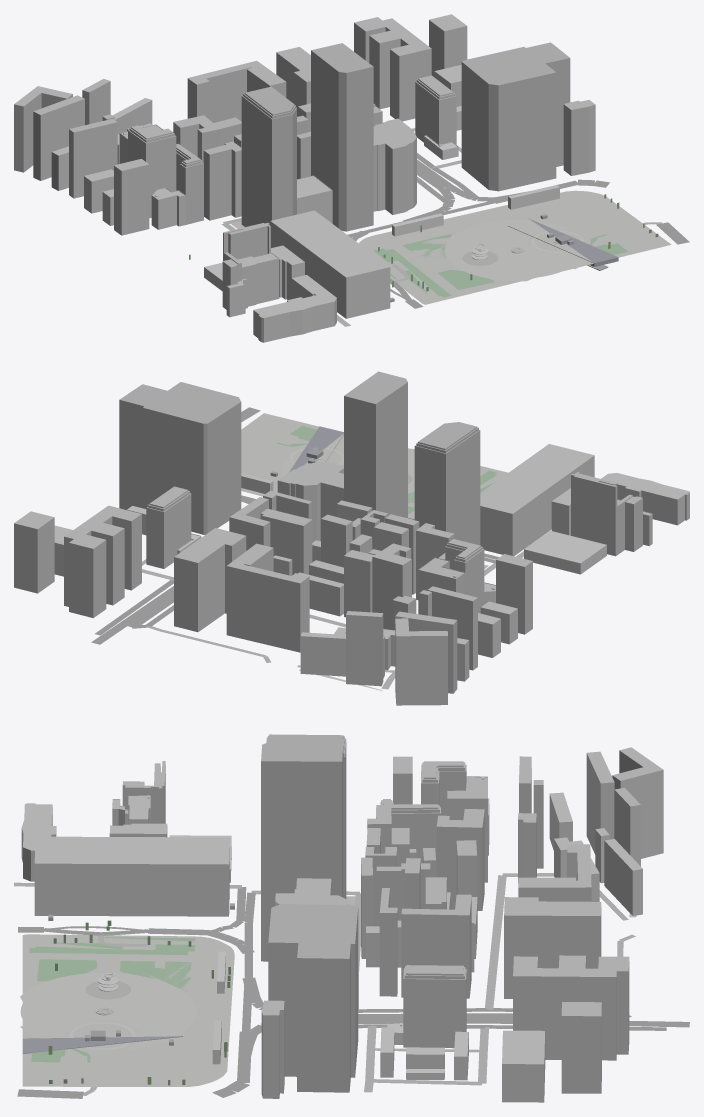
The picture shows the model from 3 angles, top to bottom: view 1: azimuth 30°, elevation 25°; view 2: azimuth 150°, elevation 25°; view 3: azimuth 270°, elevation 25°; orthographic projection. The views are drawn at different scales.
Size of the model in its own units: 523 by 191 by 551.
